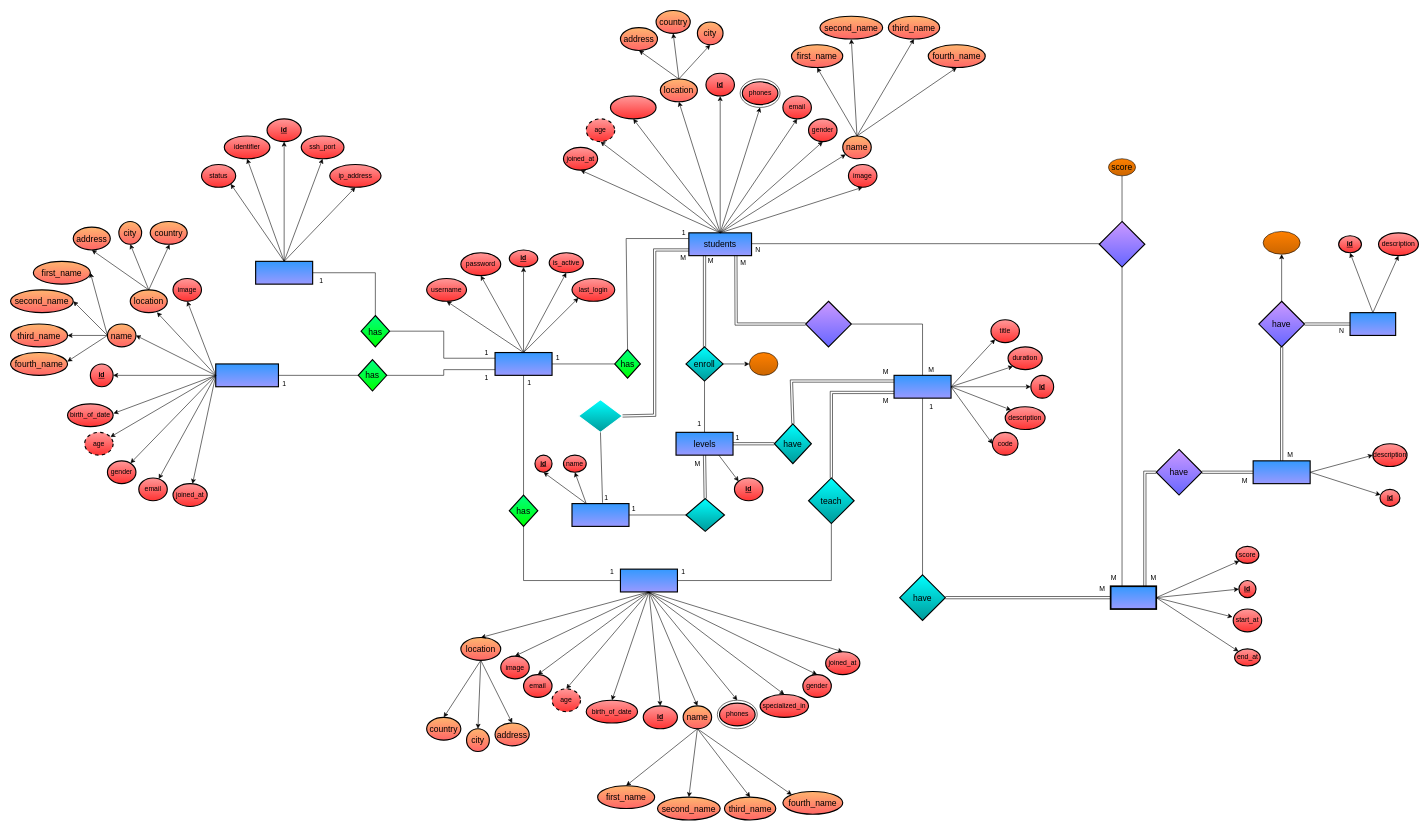
This 1428x830 diagram has some shape labels left out. The centre of each missing label's shape, as x and y in pixels:
"administrators" goes at (247,375).
"answer" goes at (1121,244).
"belong" goes at (600,416).
"choices" goes at (1372,324).
"contain" goes at (705,515).
"containers" goes at (284,272).
"courses" goes at (922,386).
"date_of_birth" goes at (633,107).
"departments" goes at (600,515).
"exams" goes at (1133,597).
"grade" goes at (763,363).
"instructors" goes at (649,580).
"is_right" goes at (1281,242).
"logins" goes at (523,364).
"questions" goes at (1281,472).
"study" goes at (828,323).
